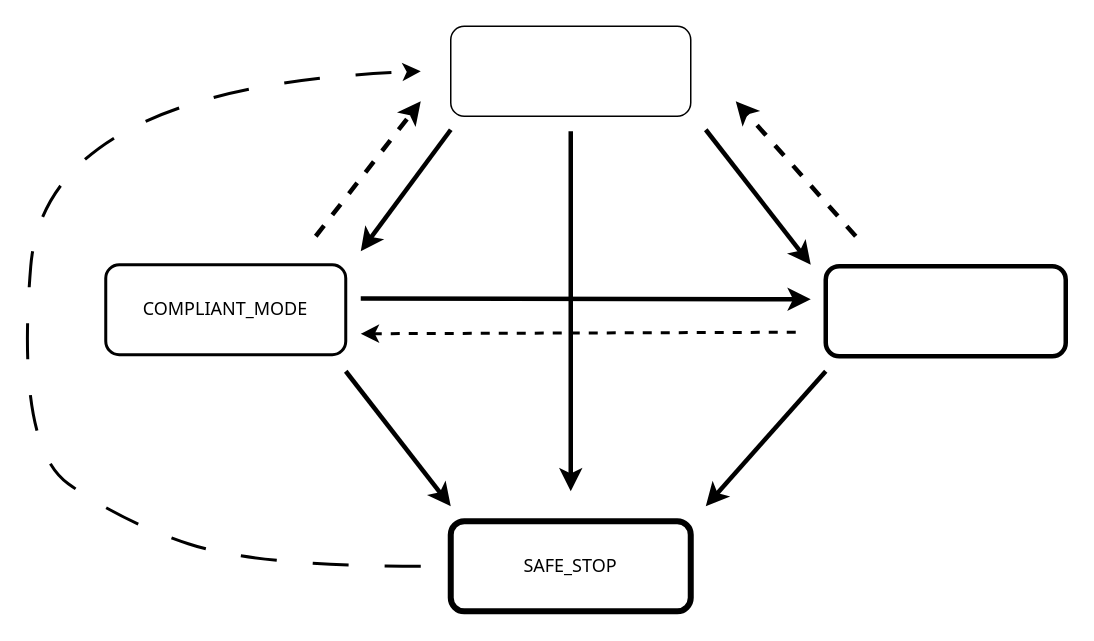
The diagram is 1094 pixels wide and 641 high, and some of its shapes have lost their labels. Each missing label, with the centre of its shape:
FAULT_MONITOR: point (570, 70)
TORQUE_LIMIT_MODE: point (945, 310)
